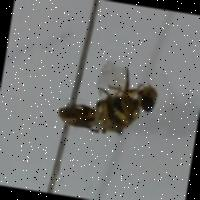Oriental-fruit-fly: (32, 45, 183, 155)
